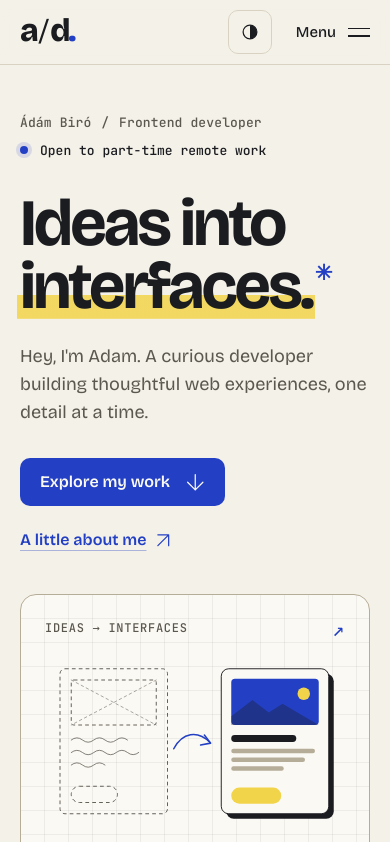
Test: portfolio navigation › following a mobile link closes the disclosure and updates the route
Click the button "Menu": x=327, y=32 [284,10,370,54]
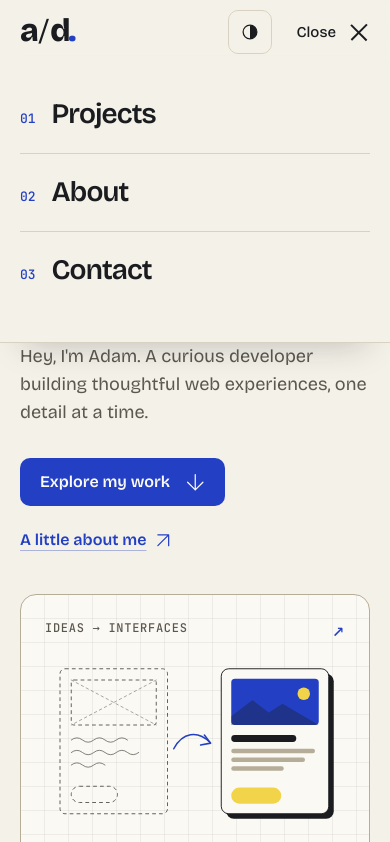
Click the link to "/about": x=90, y=192 [52,175,128,209]
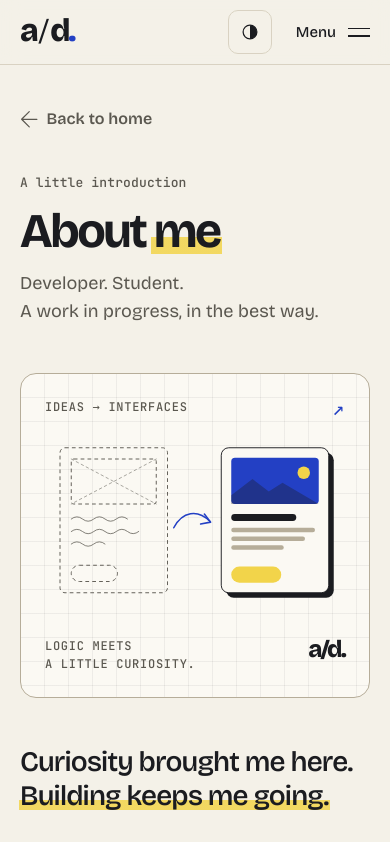
Expected: the heading "About me" is shown, [20,202,222,260]
Expected: the button "Menu" is collapsed, [284,10,370,54]
